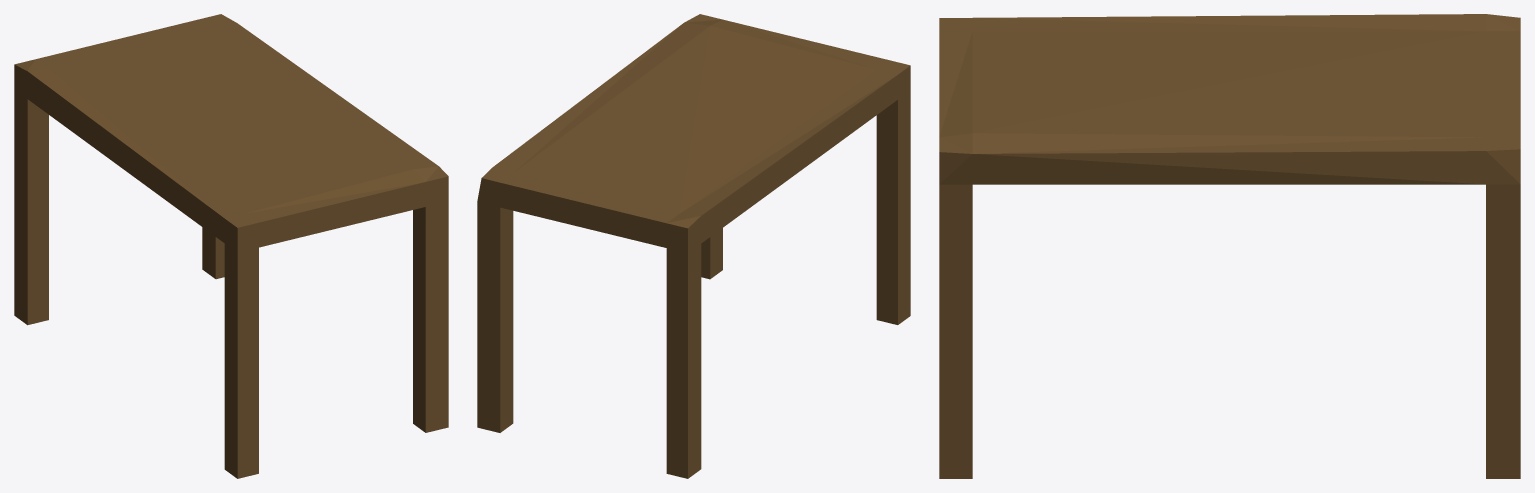
The model's file is Table.fbx.
3 renders of one model, left to right at view 1: azimuth 30°, elevation 25°; view 2: azimuth 150°, elevation 25°; view 3: azimuth 270°, elevation 25°, orthographic. The views are drawn at different scales.
Visible parts, largest first — view 1: pCube1; view 2: pCube1; view 3: pCube1.
Part boxes in pixels (x1,y1,x2,y2): pCube1: [14, 14, 448, 478]; pCube1: [477, 14, 910, 478]; pCube1: [939, 14, 1520, 478].
Size of the model in its own units: 1.01 by 1.15 by 1.83.
